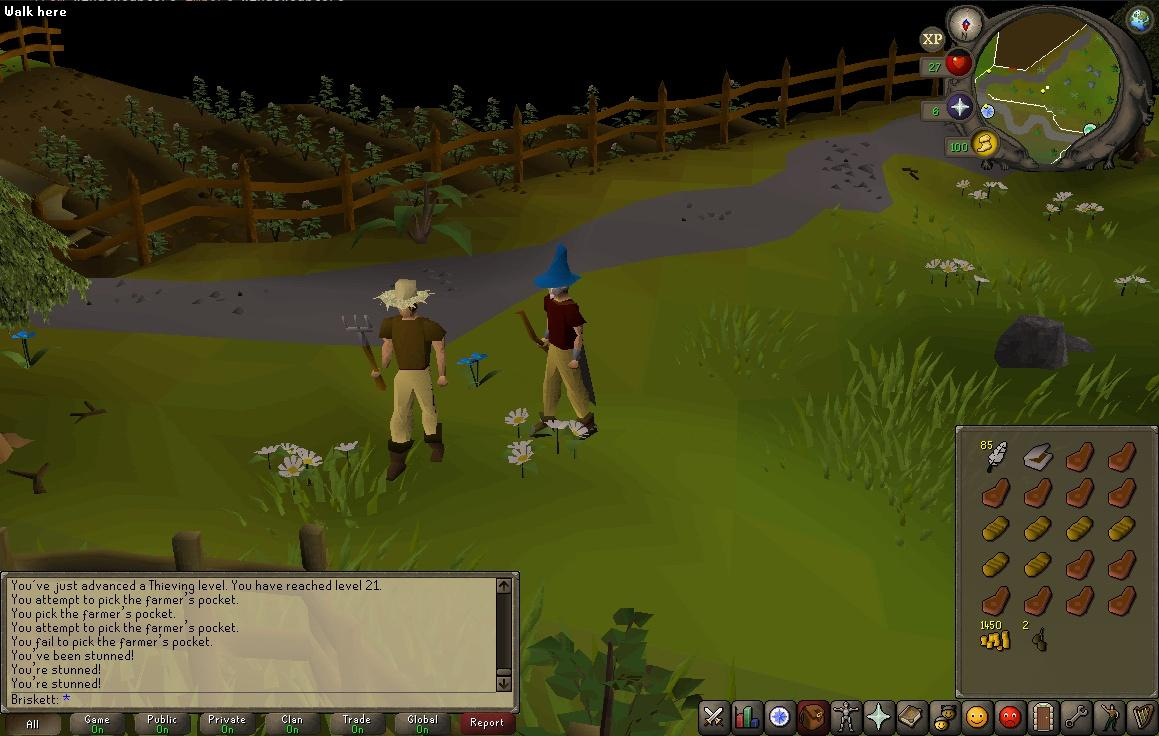Farmer: (369, 278, 449, 482)
